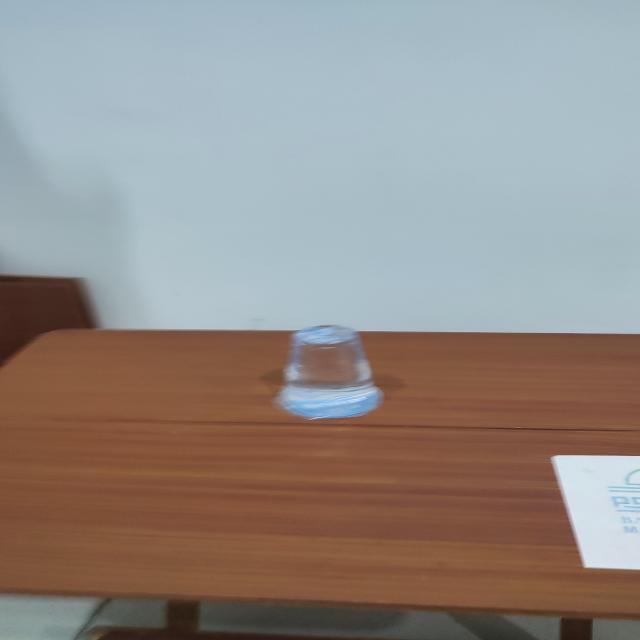air gelas: (278, 318, 392, 423)
